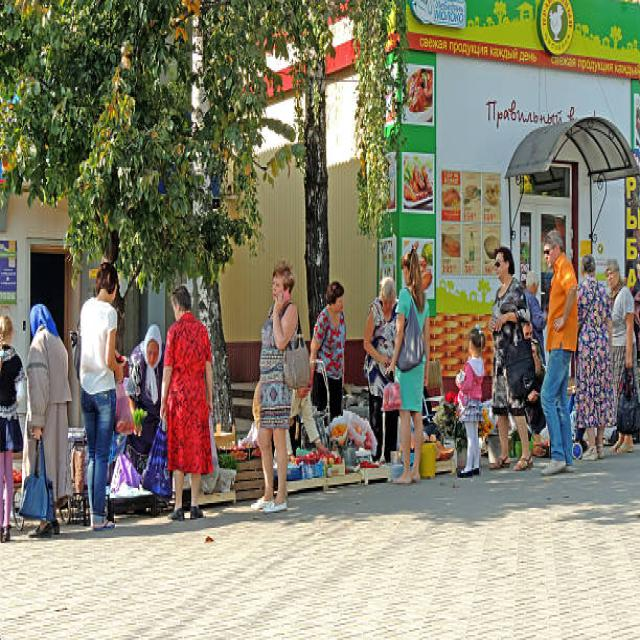Emperan: (283, 303, 421, 522)
